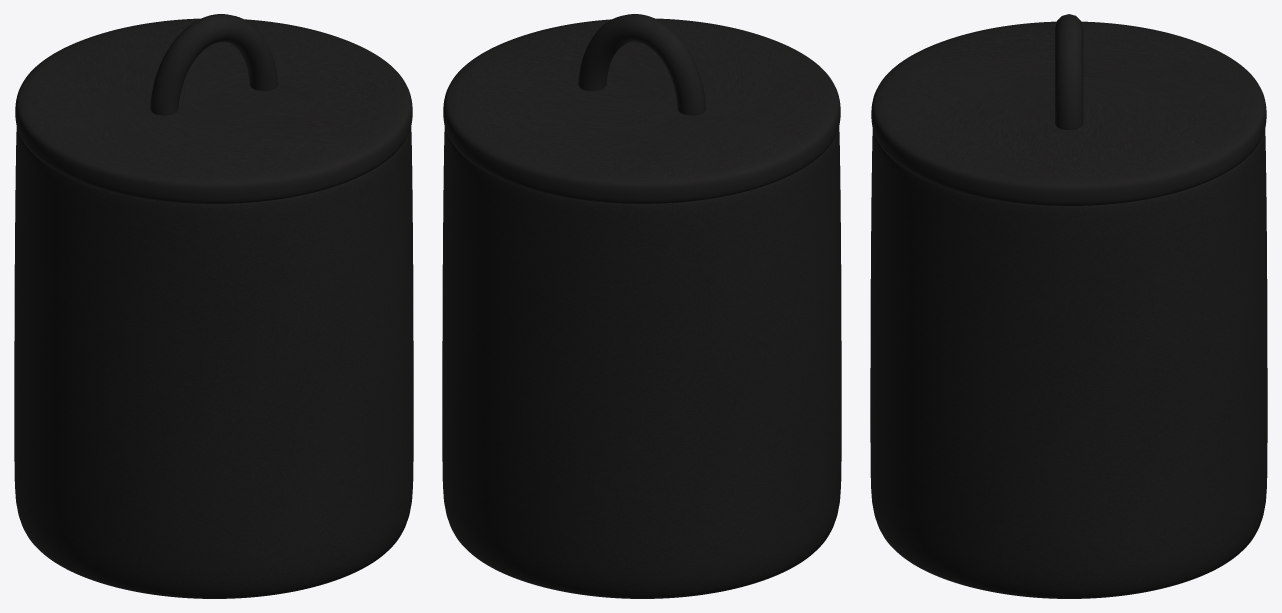
Rendered from teabox-reference.glb.
The picture shows the model from 3 angles, left to right: view 1: azimuth 30°, elevation 25°; view 2: azimuth 150°, elevation 25°; view 3: azimuth 270°, elevation 25°; orthographic projection.
Visible parts, largest first — view 1: teabox_body, teabox_lid_disc, teabox_lid_loop; view 2: teabox_body, teabox_lid_disc, teabox_lid_loop; view 3: teabox_body, teabox_lid_disc, teabox_lid_loop.
Boxes of the visible parts, x1,y1,x2,y2 form: teabox_body: (14, 127, 413, 598); teabox_lid_disc: (15, 18, 412, 203); teabox_lid_loop: (150, 14, 277, 115); teabox_body: (442, 127, 841, 598); teabox_lid_disc: (443, 18, 840, 203); teabox_lid_loop: (578, 14, 705, 115); teabox_body: (870, 129, 1267, 598); teabox_lid_disc: (871, 21, 1266, 205); teabox_lid_loop: (1055, 14, 1083, 130).
Bounding box in the file's own units: 0.0903 × 0.1256 × 0.0903.
3 materials, 1 textured.
